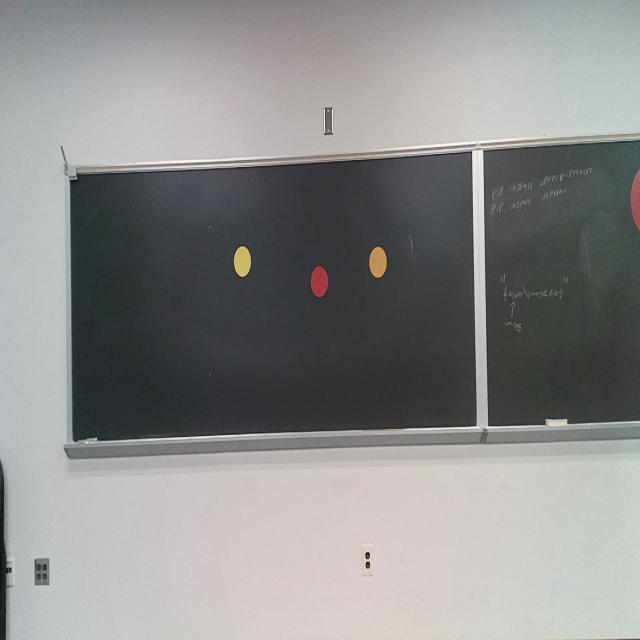Orange: (369, 246, 388, 279)
Red: (311, 264, 328, 298)
Yellow: (233, 244, 252, 278)
